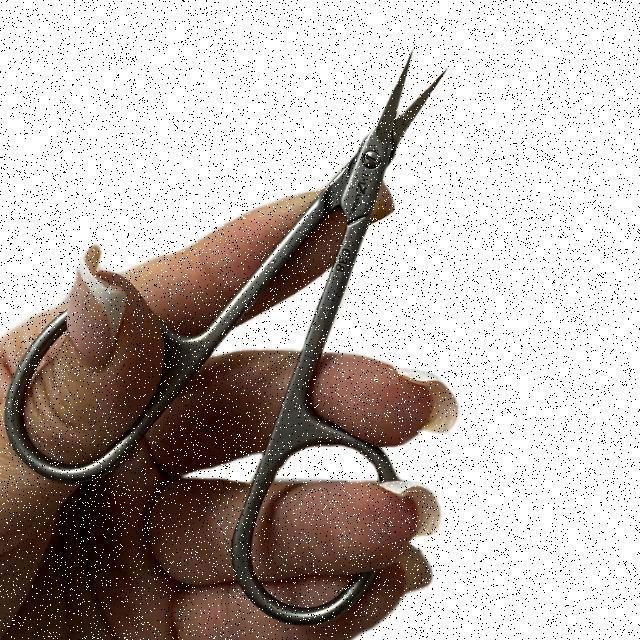scissors: (1, 46, 454, 626)
